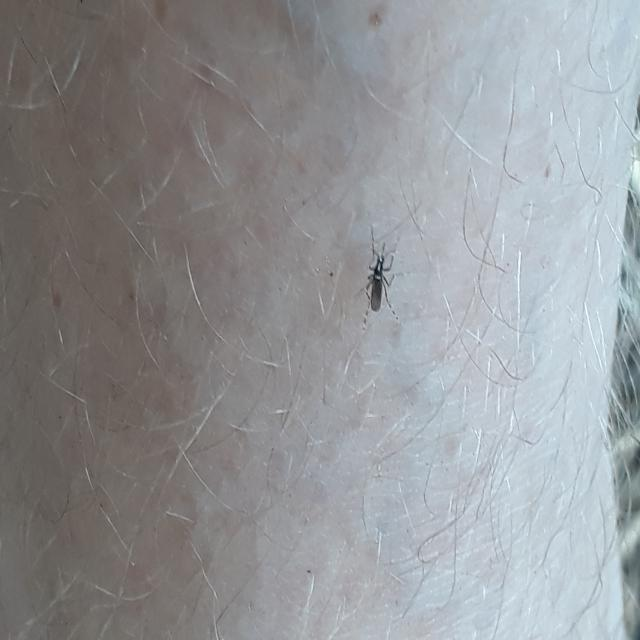albopictus: (352, 218, 404, 336)
